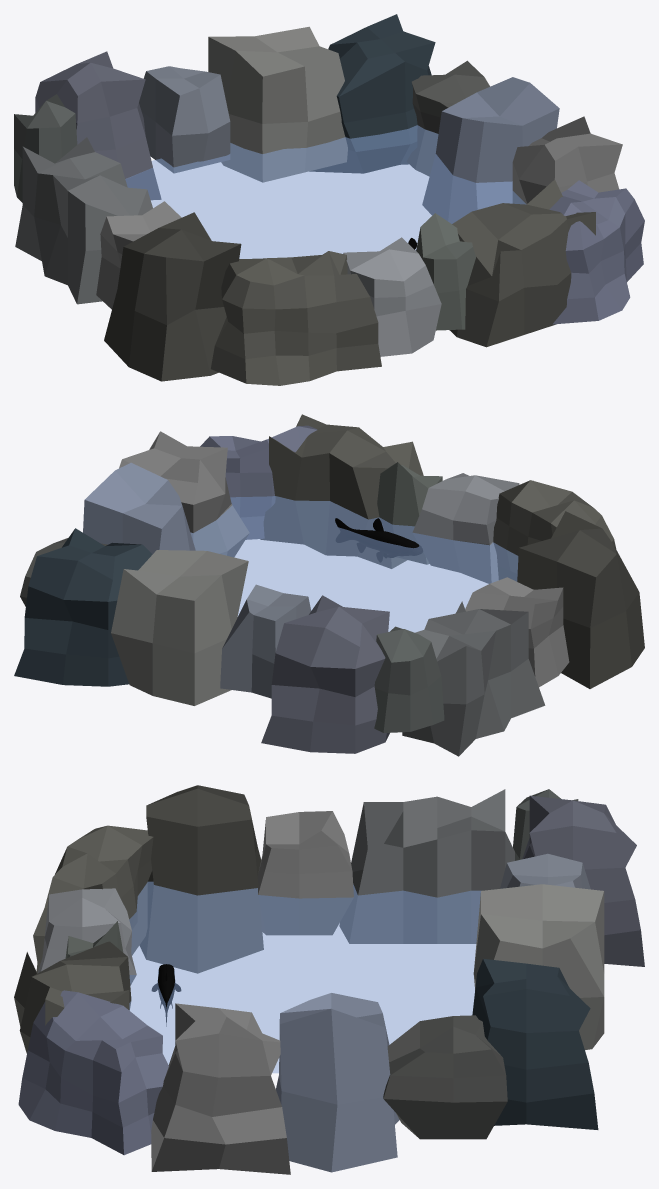
Rendered from lake_and_fish.glb.
The picture shows the model from 3 angles, top to bottom: view 1: azimuth 30°, elevation 25°; view 2: azimuth 150°, elevation 25°; view 3: azimuth 270°, elevation 25°; orthographic projection. The views are drawn at different scales.
Parts seen in each view (by area): view 1: Object_42, Object_18, Object_24, Object_16, Object_30, Object_12, Object_36, Object_20, Object_32, Object_38, Object_22, Object_26 (+5 smaller); view 2: Object_42, Object_24, Object_38, Object_20, Object_30, Object_16, Object_12, Object_26, Object_34, Object_36, Object_10, Object_22 (+6 smaller); view 3: Object_42, Object_12, Object_16, Object_34, Object_36, Object_32, Object_20, Object_40, Object_24, Object_14, Object_38, Object_18 (+6 smaller).
Part boxes in pixels (x1,y1,x2,y2): Object_42: (125, 125, 526, 258); Object_18: (211, 251, 381, 385); Object_24: (208, 26, 347, 182); Object_16: (104, 212, 241, 381); Object_30: (449, 179, 595, 347); Object_12: (15, 137, 152, 304); Object_36: (422, 77, 559, 223); Object_20: (309, 14, 435, 173); Object_32: (549, 180, 644, 324); Object_38: (35, 51, 161, 200); Object_22: (139, 66, 230, 173); Object_26: (343, 237, 441, 356); Object_42: (190, 496, 518, 632); Object_24: (111, 550, 248, 705); Object_38: (261, 595, 389, 753); Object_20: (14, 528, 152, 686); Object_30: (260, 414, 423, 568); Object_16: (517, 511, 644, 688); Object_12: (402, 601, 545, 756); Object_26: (412, 473, 519, 583); Object_34: (119, 431, 249, 557); Object_36: (83, 462, 195, 554); Object_10: (374, 626, 444, 732); Object_22: (220, 584, 311, 698); Object_42: (129, 881, 481, 1073); Object_12: (339, 789, 514, 943); Object_16: (139, 785, 263, 973); Object_34: (151, 1003, 290, 1174); Object_36: (276, 993, 399, 1172); Object_32: (18, 990, 168, 1155); Object_20: (472, 958, 598, 1129); Object_40: (383, 1015, 507, 1139); Object_24: (473, 884, 604, 1050); Object_14: (257, 811, 353, 935); Object_38: (522, 795, 644, 966); Object_18: (33, 825, 153, 973).
Size of what is drawn, in the model's own units: 5.96 by 1.7 by 5.63.
